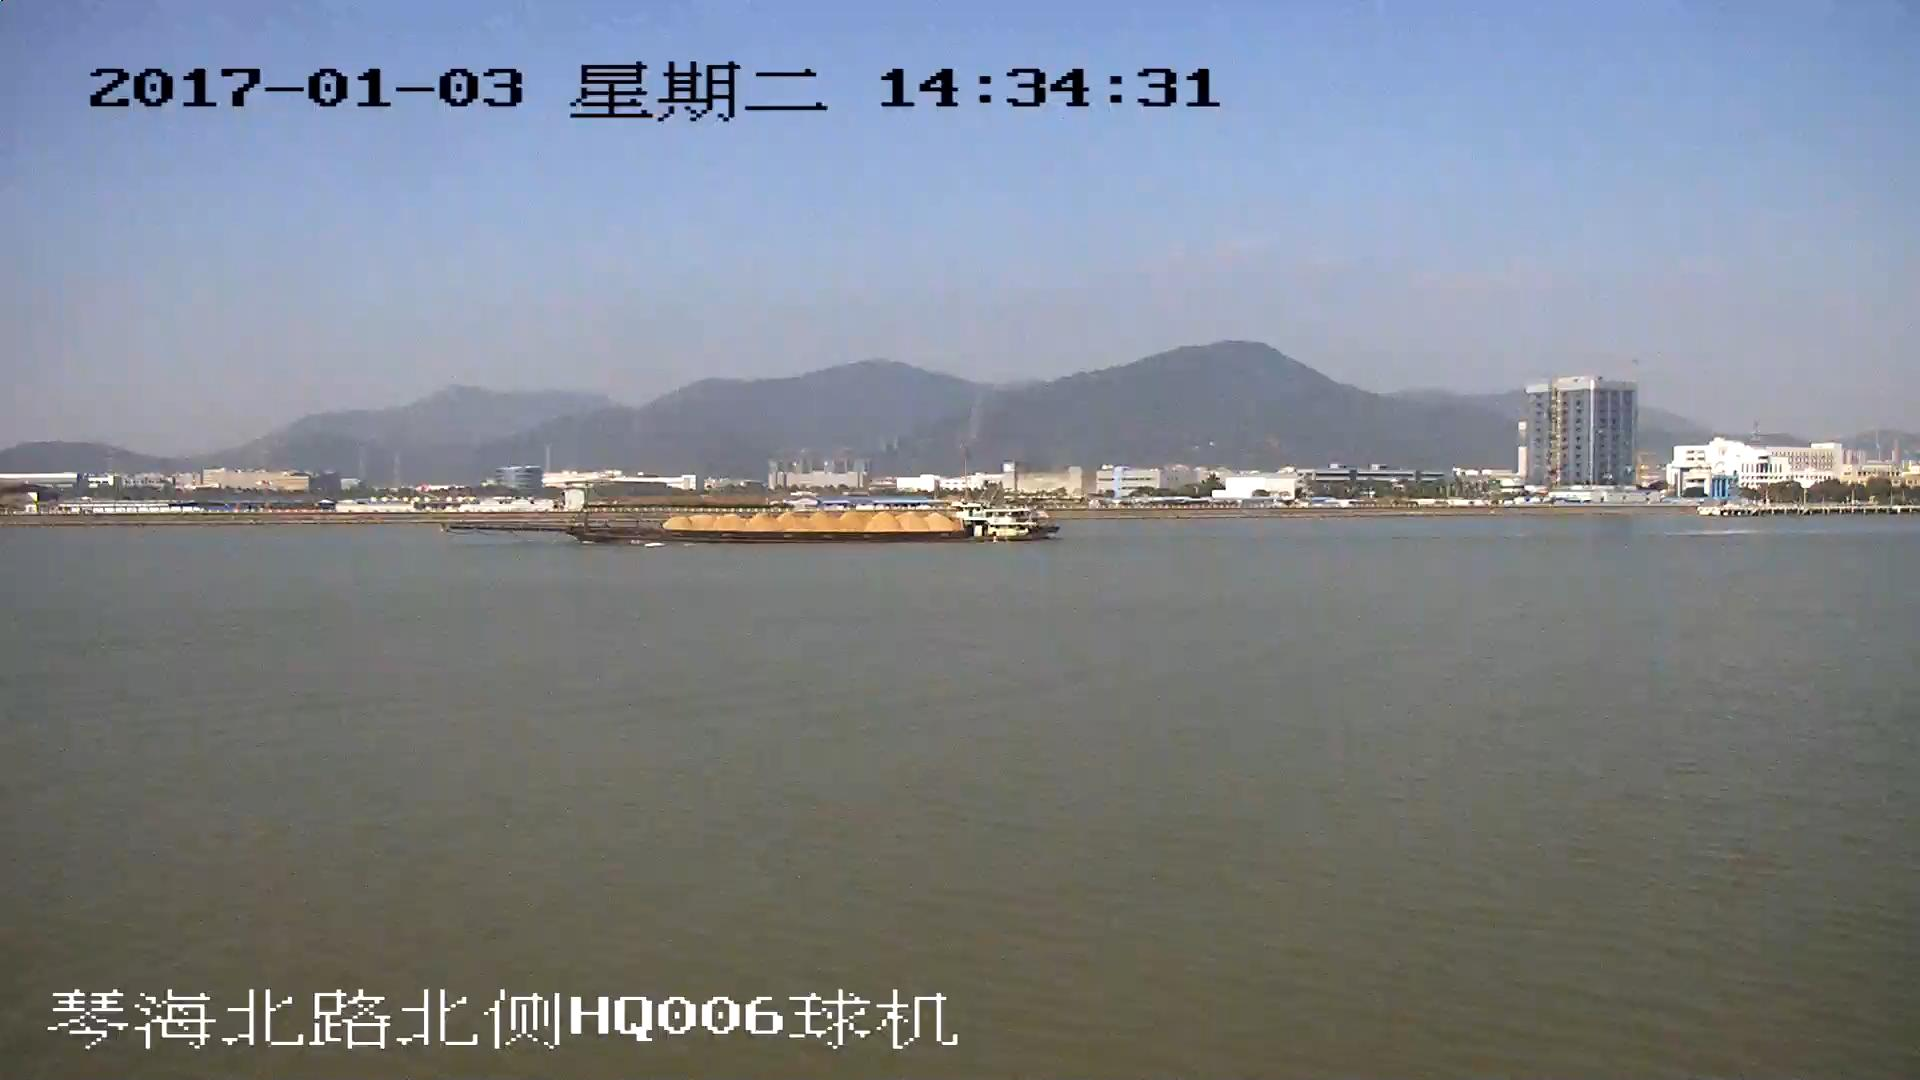ore carrier: (448, 503, 1057, 543)
